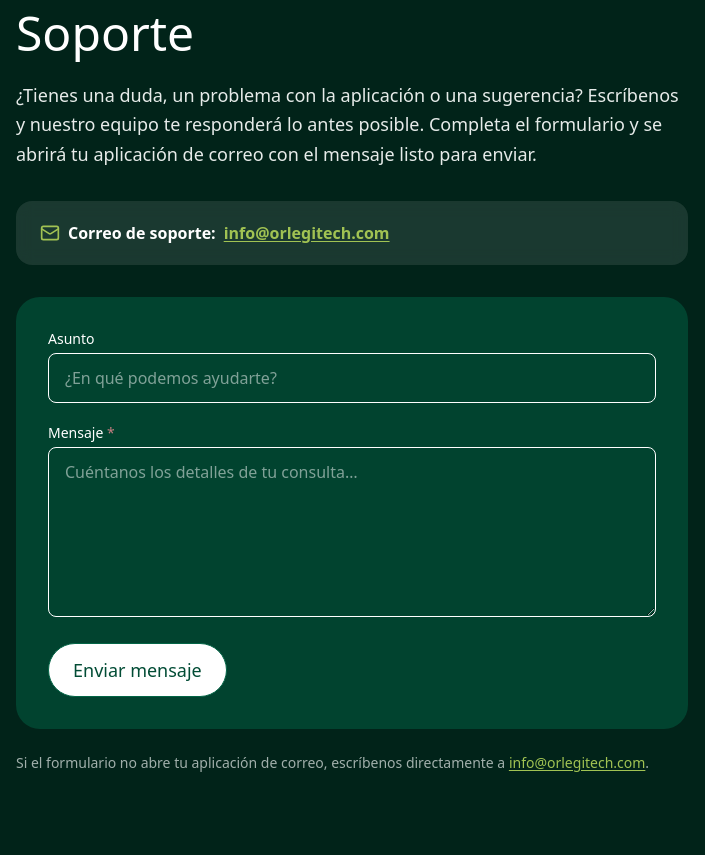
it: SupportContainer › confirms to the visitor that the mail app is about to open
The image size is (705, 855).
In the text box labelled "Mensaje *": (352, 532) [48,447,656,617], type "Hola"
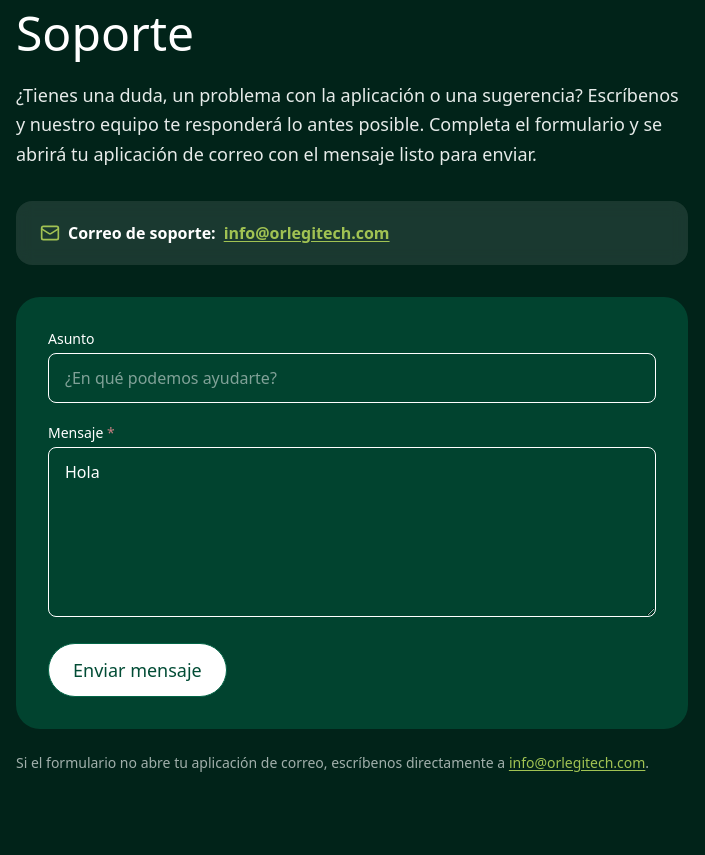
Click the button "Enviar mensaje": (137, 670) [48,643,227,697]
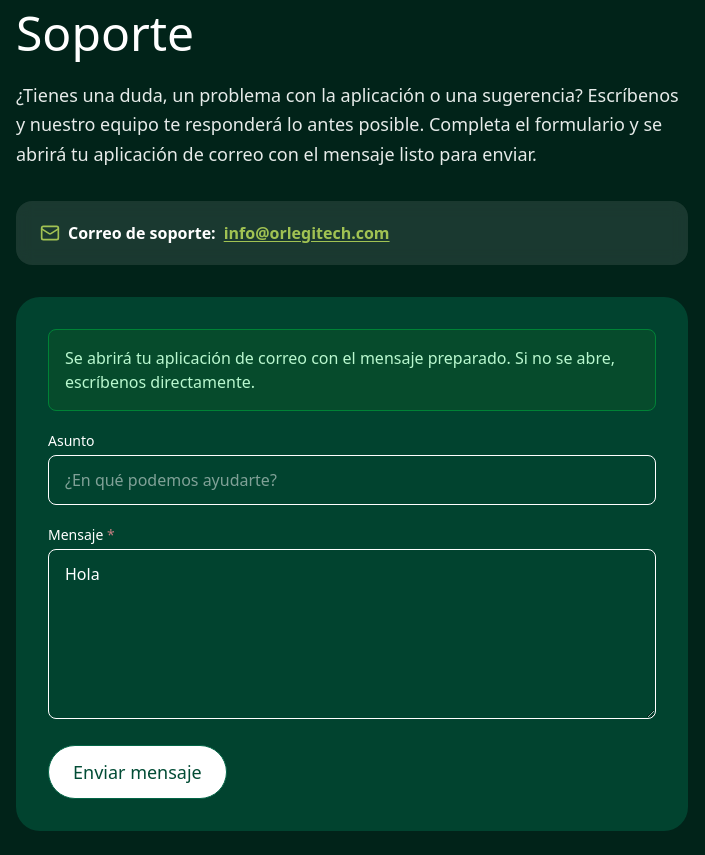
expect the message shows "aplicación de correo": met, box [65,347,615,393]
